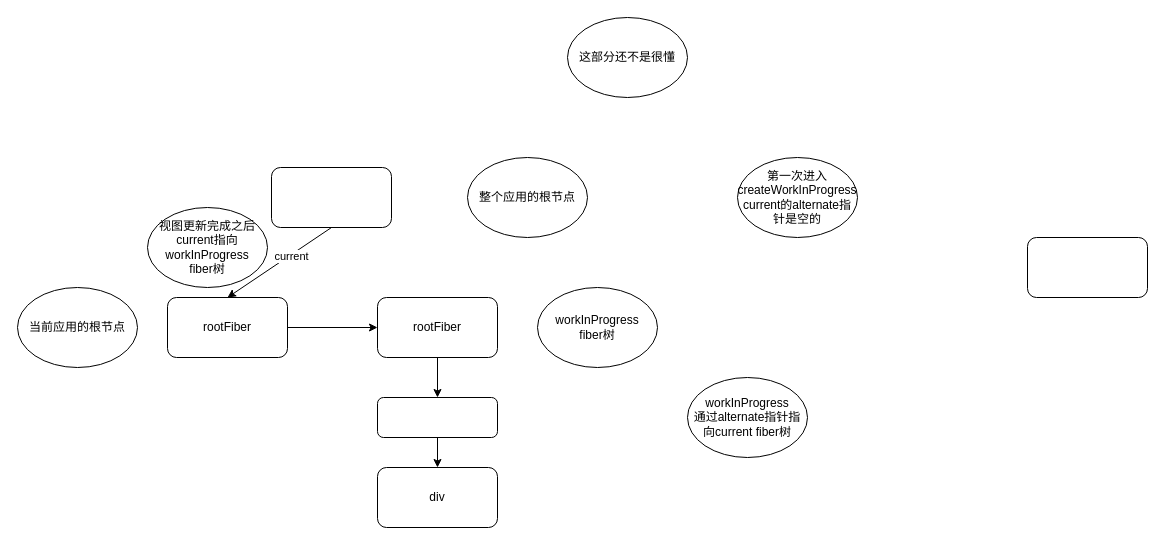
Some shapes in this 1165 by 545 pixel diagram are drawn without their labels. Here are the shapes that lost their labels. From the top down, the box of each, then its label:
(270, 166, 392, 228): FiberRootNode
(1026, 236, 1148, 298): completeUnitOfWork
(376, 396, 498, 438): APP
